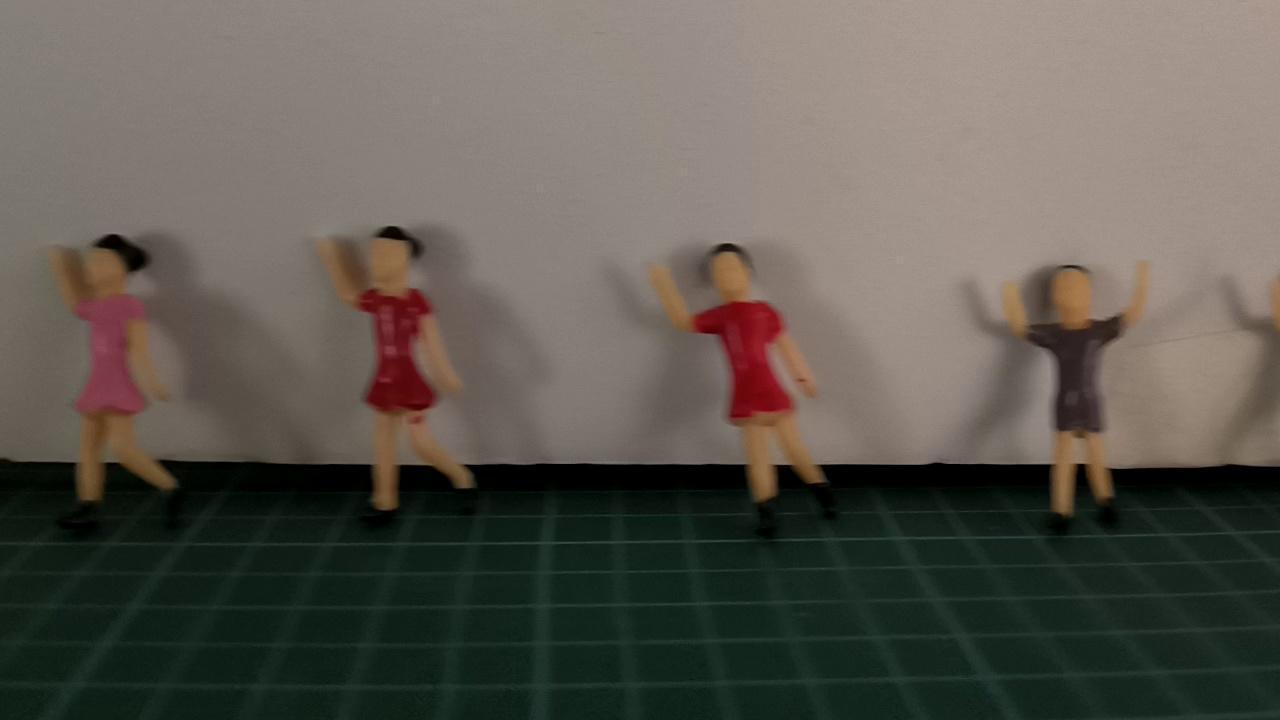human: (648, 236, 843, 546), (307, 225, 491, 531), (36, 235, 196, 529), (994, 261, 1159, 524)
